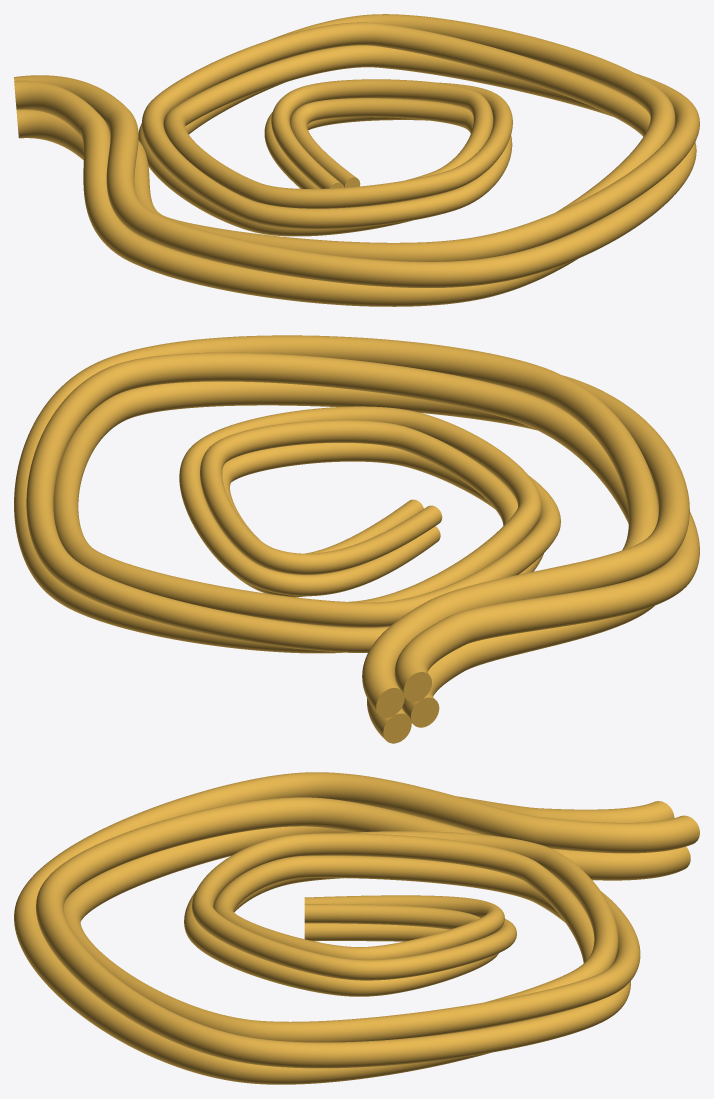
The model's file is Rope.FBX.
3 views of the same model, one above another, from view 1: azimuth 30°, elevation 25°; view 2: azimuth 150°, elevation 25°; view 3: azimuth 270°, elevation 25° (orthographic). The views are drawn at different scales.
Parts seen in each view (by area): view 1: RopeCoil; view 2: RopeCoil; view 3: RopeCoil.
Boxes of the visible parts, left/top/right/bottom form: RopeCoil: left=14, top=14, right=699, bottom=306; RopeCoil: left=14, top=335, right=699, bottom=743; RopeCoil: left=14, top=772, right=699, bottom=1084.
Size of the model in its own units: 74.3 by 9.74 by 74.82.
